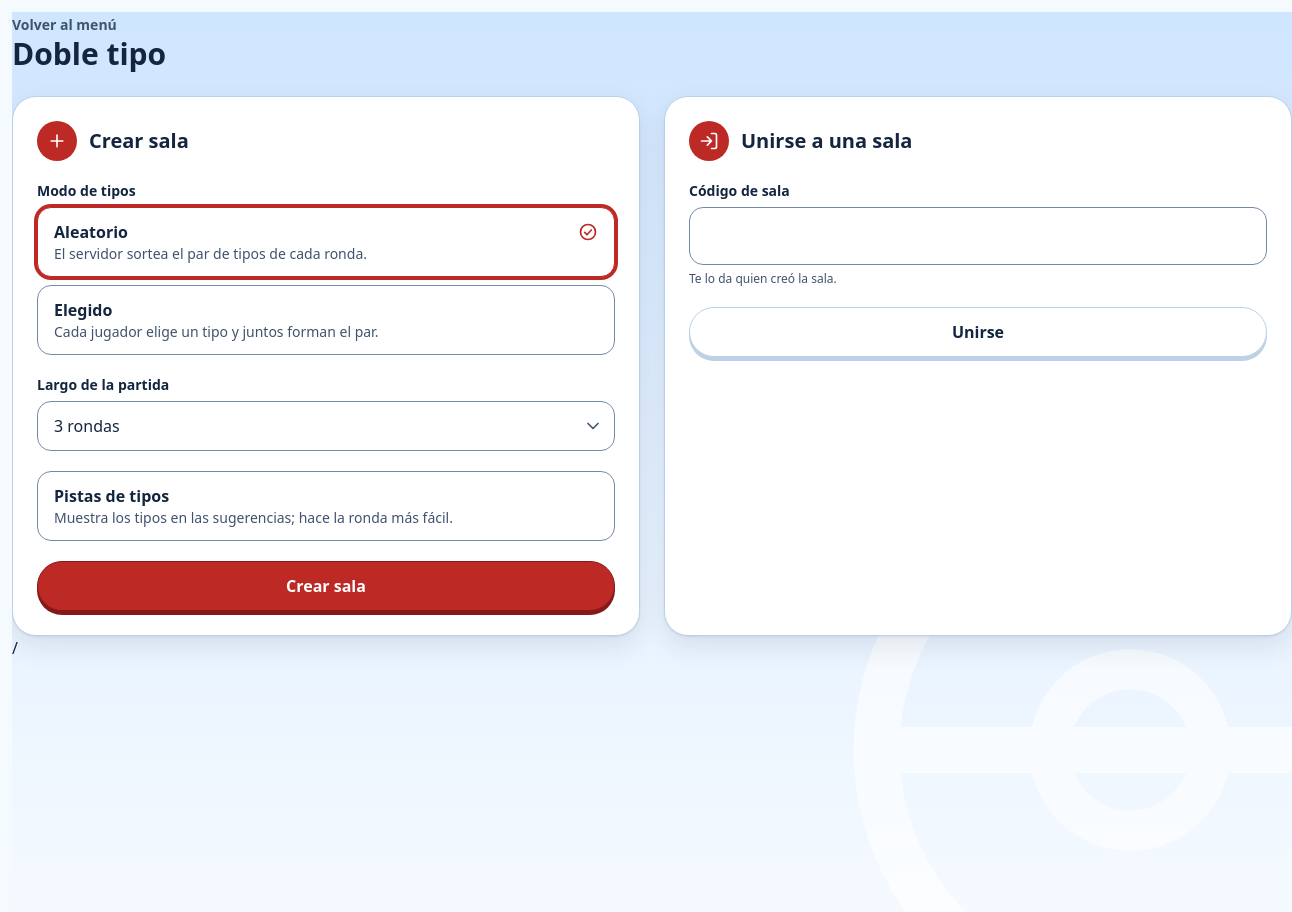
lobby: unirse a una sala › si el servidor responde ROOM_NOT_FOUND lo explica en español
Type "ZZZZZZ" into the field labelled "Código de sala".
click(978, 236); type("ZZZZZZ")  # box [689, 207, 1267, 265]
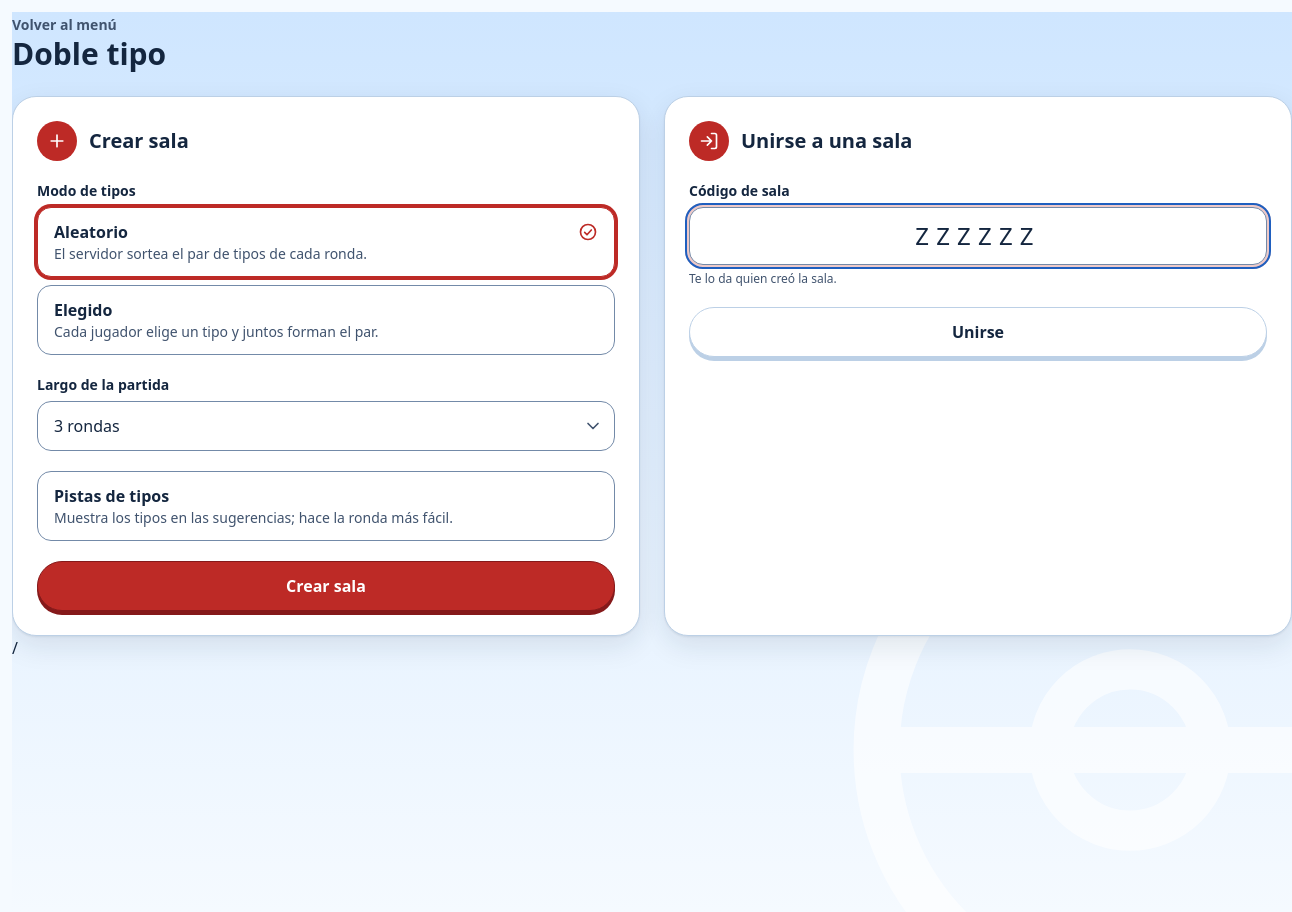
Click the button "Unirse".
click(978, 332)  # box [689, 307, 1267, 357]
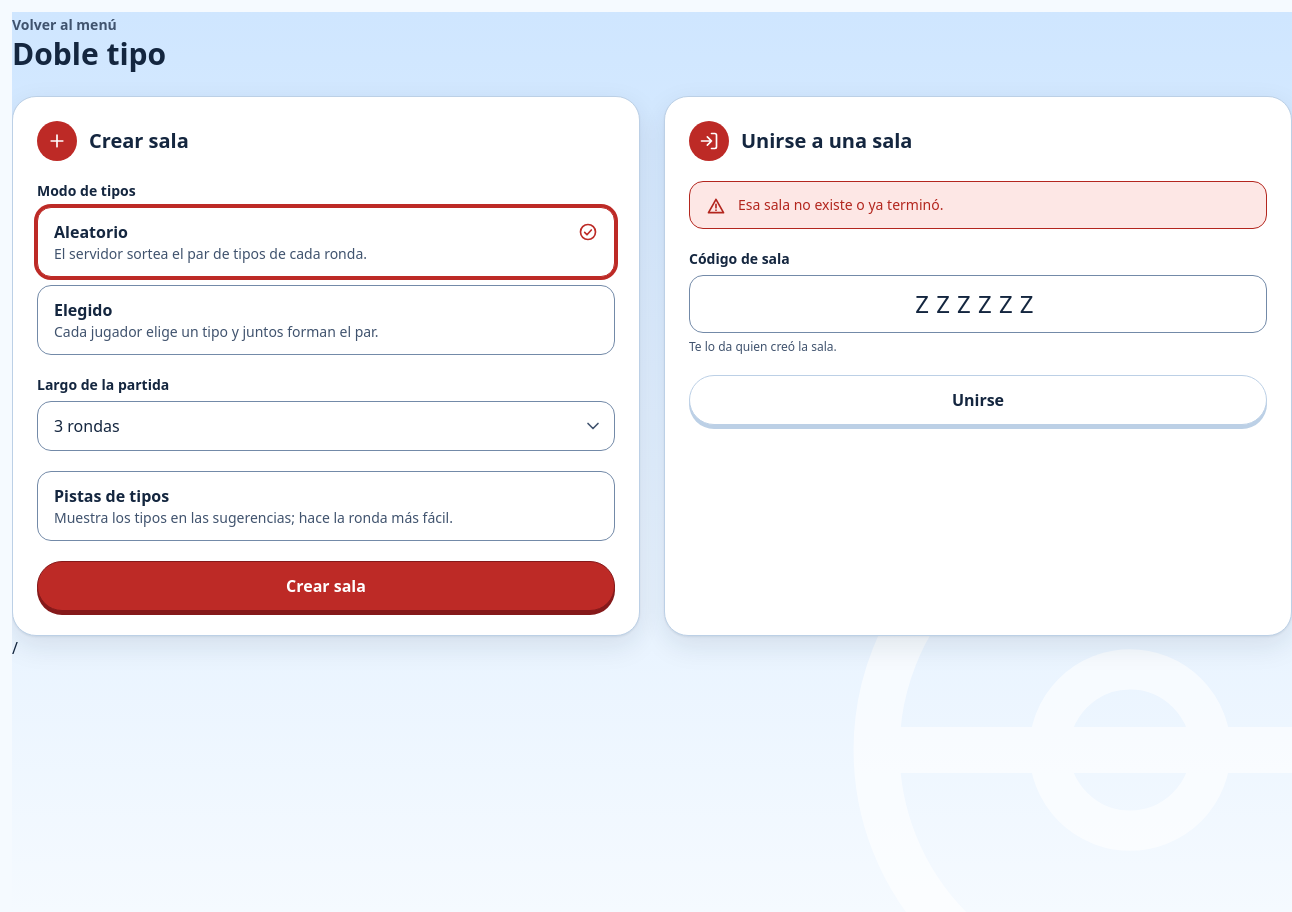
Expected: the text with test id "location" reads "/", [12, 637, 18, 659]
Expected: the message reads "Esa sala no existe o ya terminó.", [738, 195, 943, 214]
